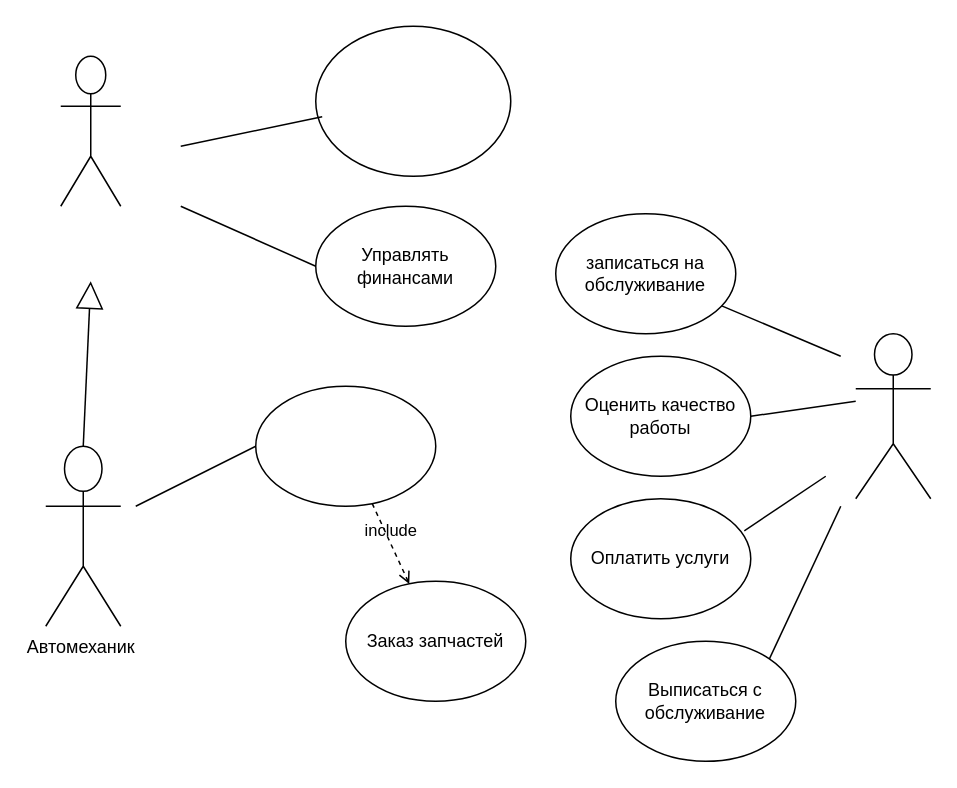
Image size: 957x788. Some labels were removed from this diagram. Each missing label, with the box of its shape:
Администратор: (59, 55, 121, 206)
клиент: (854, 332, 931, 499)
Назначить автомеханика на ремонтные работы: (314, 25, 511, 176)
Связь с поставщиком автодиталий: (254, 385, 436, 506)
